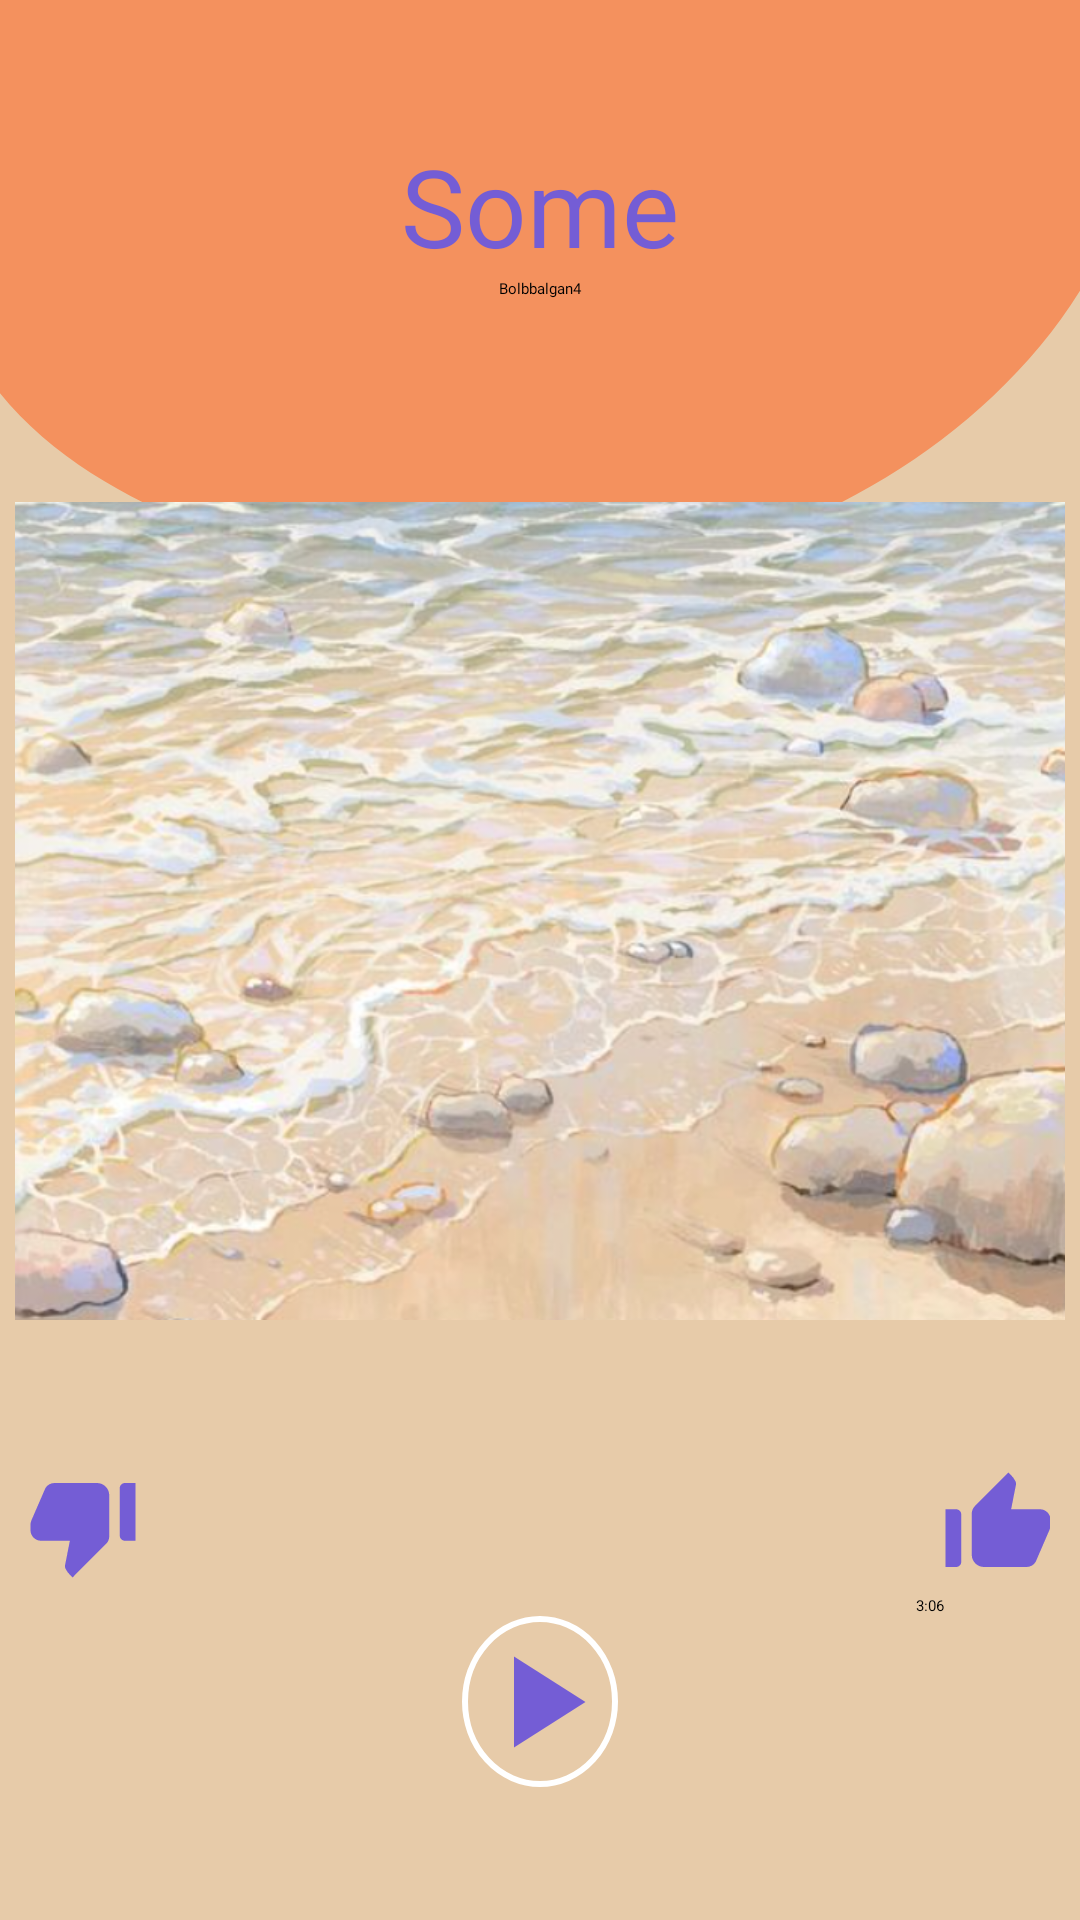

Named icons in this screenshot (1080px x 1920px) and their centers, (x,y):
play arrow: (540,1701)
thumb down: (83,1530)
thumb up: (997,1519)
